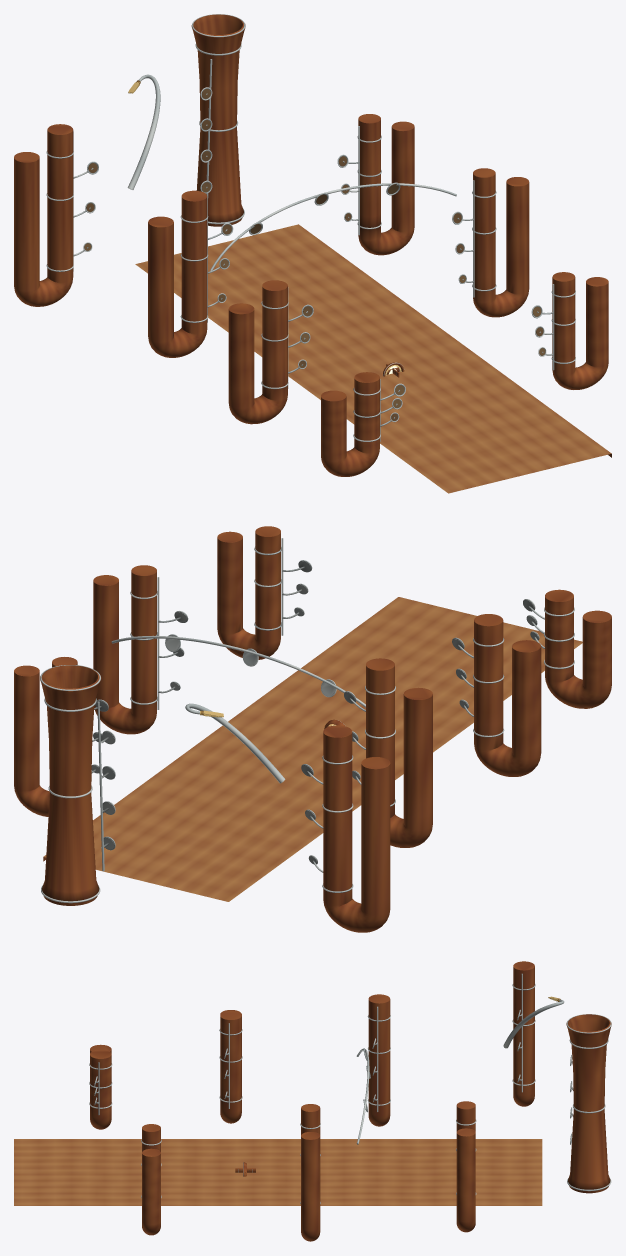
The model's file is mundo-fagot-juego.glb.
3 views of the same model, one above another, from view 1: azimuth 30°, elevation 25°; view 2: azimuth 150°, elevation 25°; view 3: azimuth 270°, elevation 25° (orthographic). The views are drawn at different scales.
Parts seen in each view (by area): view 1: world__wood, world__floor, world__nickel, world__leather; view 2: world__wood, world__floor, world__nickel; view 3: world__floor, world__wood, world__nickel.
Boxes of the visible parts, box(x1,y1,x2,y2) form: world__wood: box(14, 14, 611, 476); world__floor: box(135, 224, 611, 493); world__nickel: box(46, 14, 575, 441); world__leather: box(84, 89, 545, 420); world__wood: box(14, 526, 611, 932); world__floor: box(43, 597, 582, 901); world__nickel: box(40, 538, 574, 903); world__floor: box(14, 1139, 542, 1205); world__wood: box(90, 961, 611, 1241); world__nickel: box(89, 973, 611, 1203).
Bounding box in the file's own units: 104 × 52.12 × 165.
